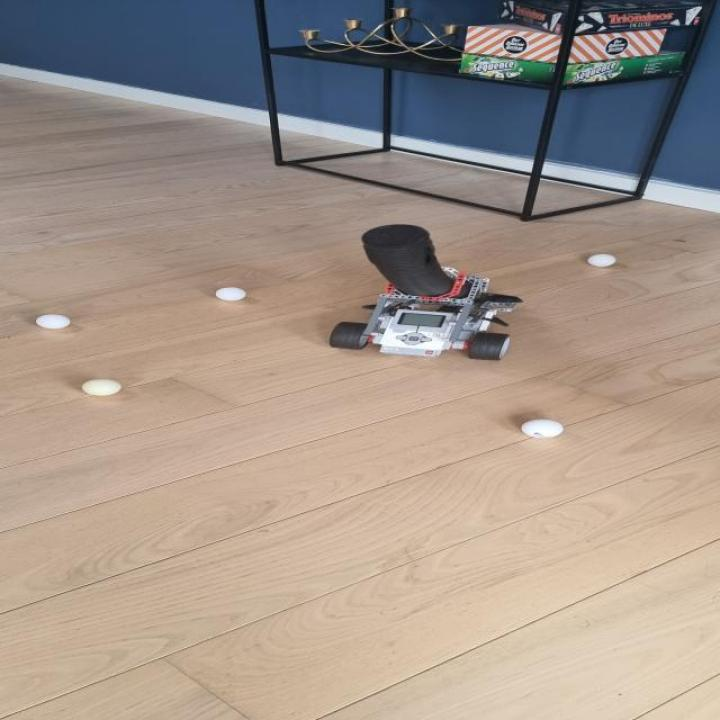robot: (329, 224, 525, 361)
white: (520, 419, 564, 438), (83, 378, 121, 395), (36, 315, 70, 329), (215, 286, 246, 301), (588, 254, 616, 267)
